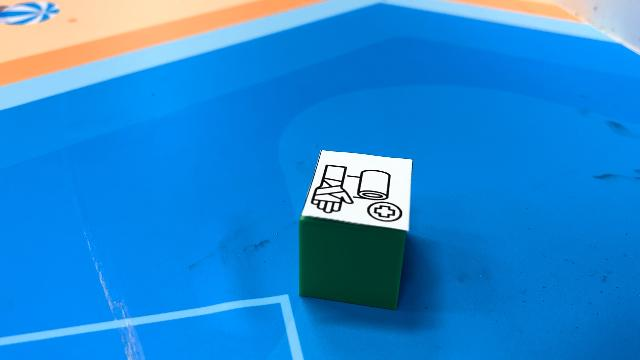bandage: (298, 150, 412, 310)
